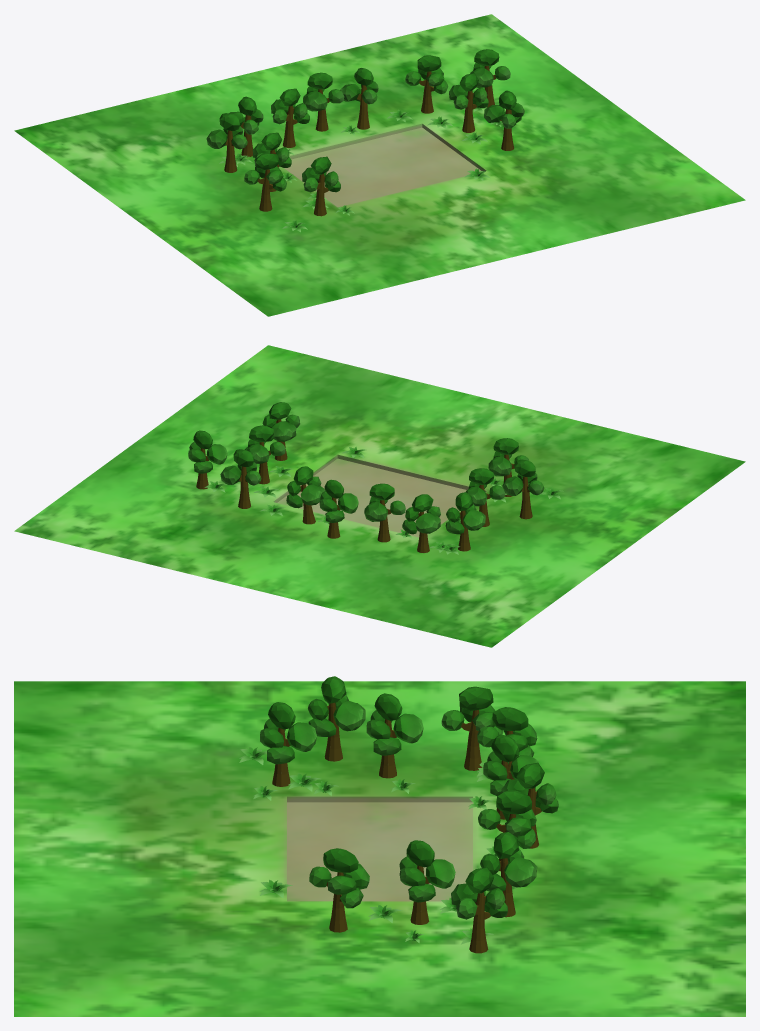
Rendered from stage02.fbx.
The picture shows the model from 3 angles, top to bottom: view 1: azimuth 30°, elevation 25°; view 2: azimuth 150°, elevation 25°; view 3: azimuth 270°, elevation 25°; orthographic projection. The views are drawn at different scales.
Visible parts, largest first — view 1: stage; view 2: stage; view 3: stage, leaf01 (×8), leaf04 (×5), tree (×3).
Boxes of the visible parts, bbox=[...] form: stage: bbox=[14, 14, 745, 316]; stage: bbox=[14, 345, 745, 647]; stage: bbox=[14, 681, 745, 1016]; leaf01 (×8): bbox=[268, 686, 531, 872]; leaf04 (×5): bbox=[286, 701, 537, 888]; tree (×3): bbox=[324, 702, 490, 953].
Size of the model in its own units: 64 by 7.58 by 59.
